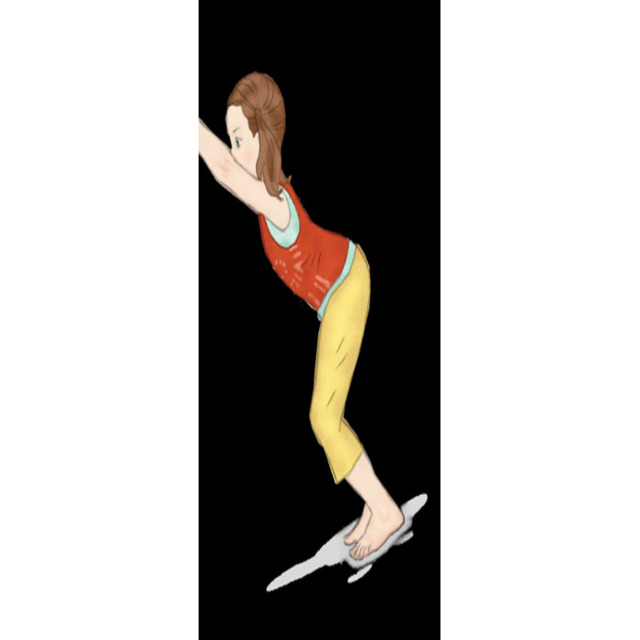Squat_Pose: (199, 71, 407, 561)
